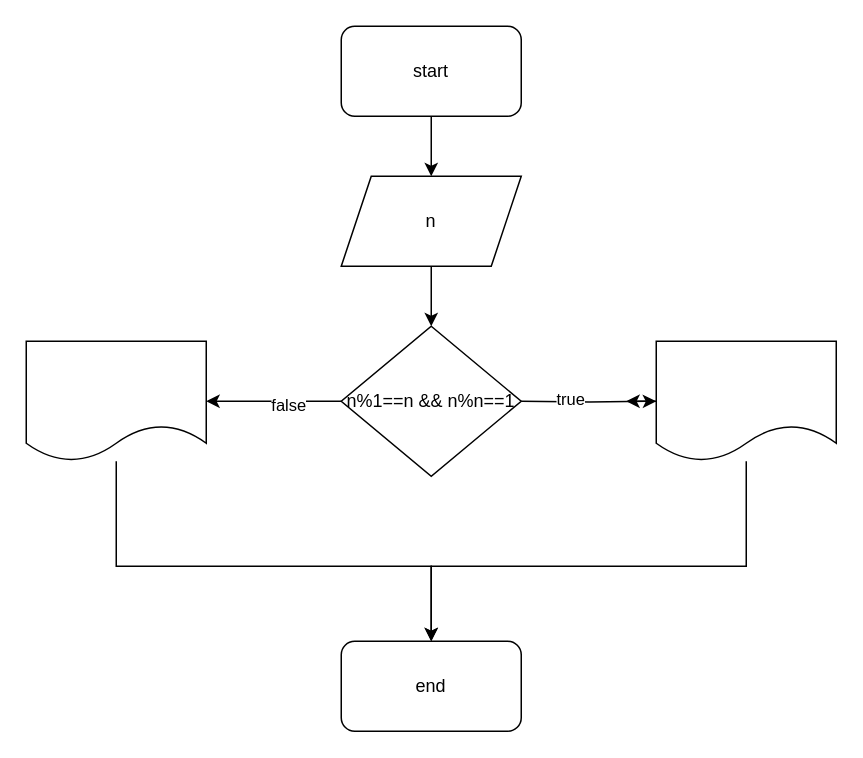
This 863x758 diagram has some shape labels left out. The shapes that lost their labels are listed below. From the top down, each one's centre as x and y in pixels, then its label:
(x=115, y=400): complex
(x=745, y=400): simple
